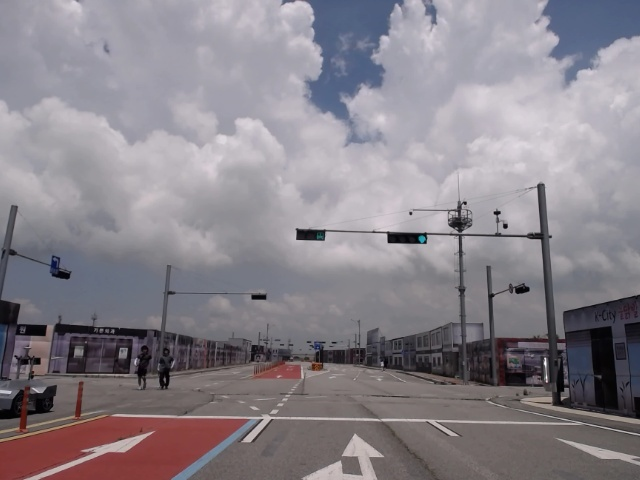straight_green_4: (385, 231, 428, 246)
